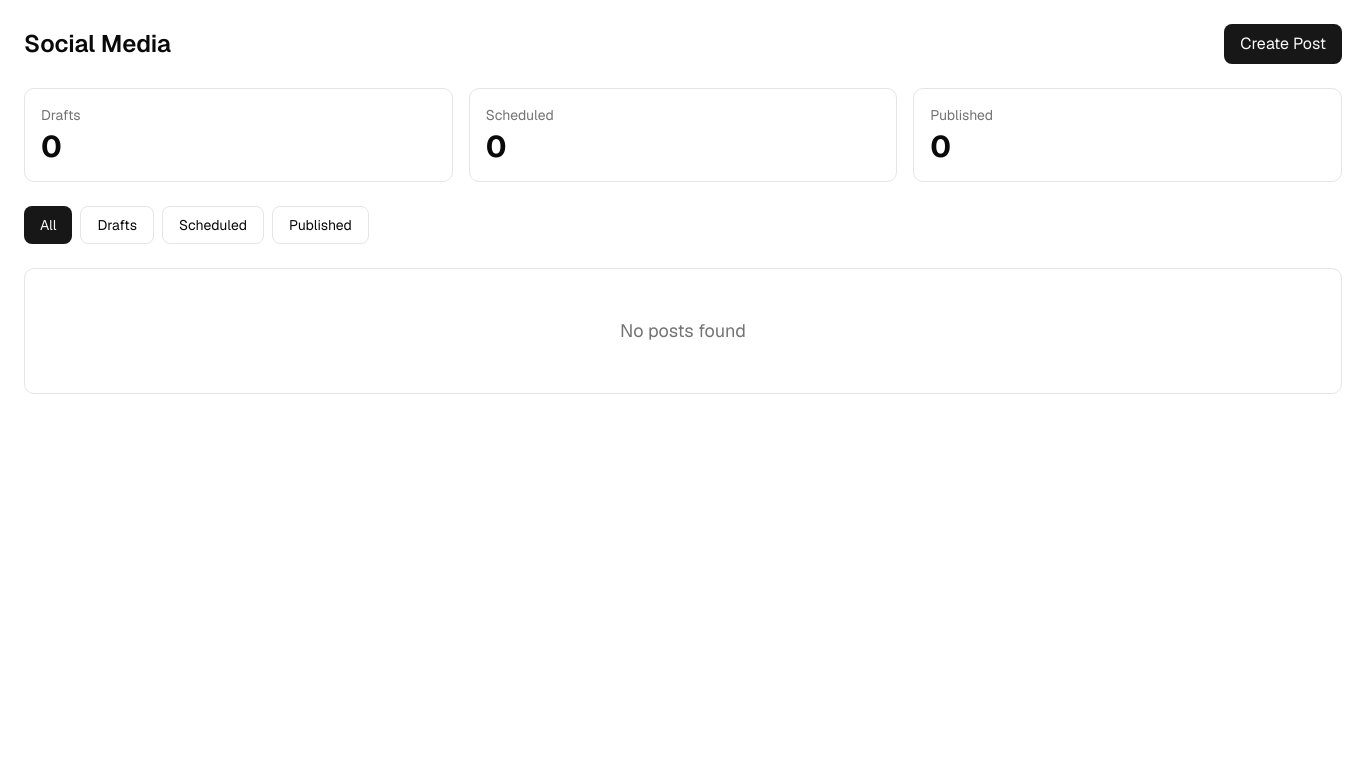
Test case: SocialMedia › displays character count
The image size is (1366, 768).
Step 1. Click the button "Create Post" → (1283, 44), box [1224,24,1342,64]
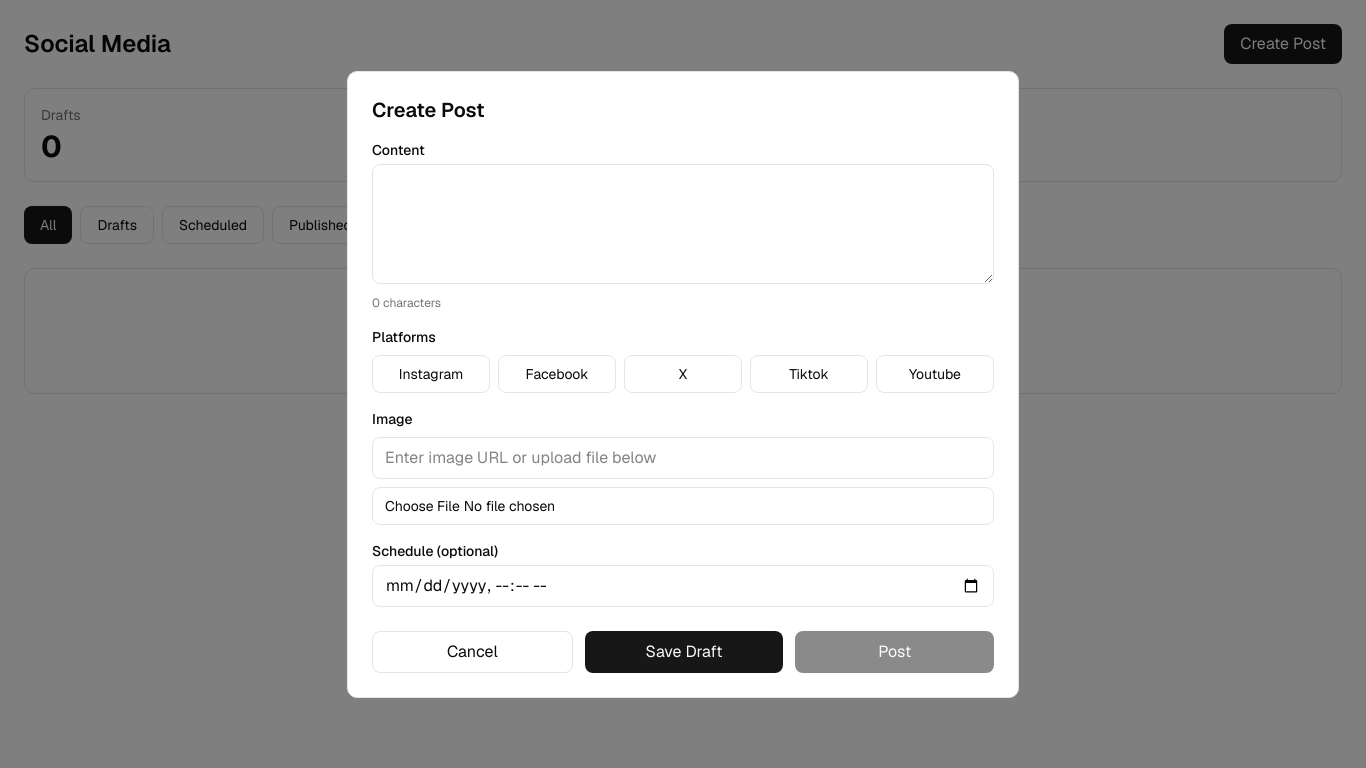
Step 2. Type "Hello" into the text box → (683, 224), box [372,164,994,284]
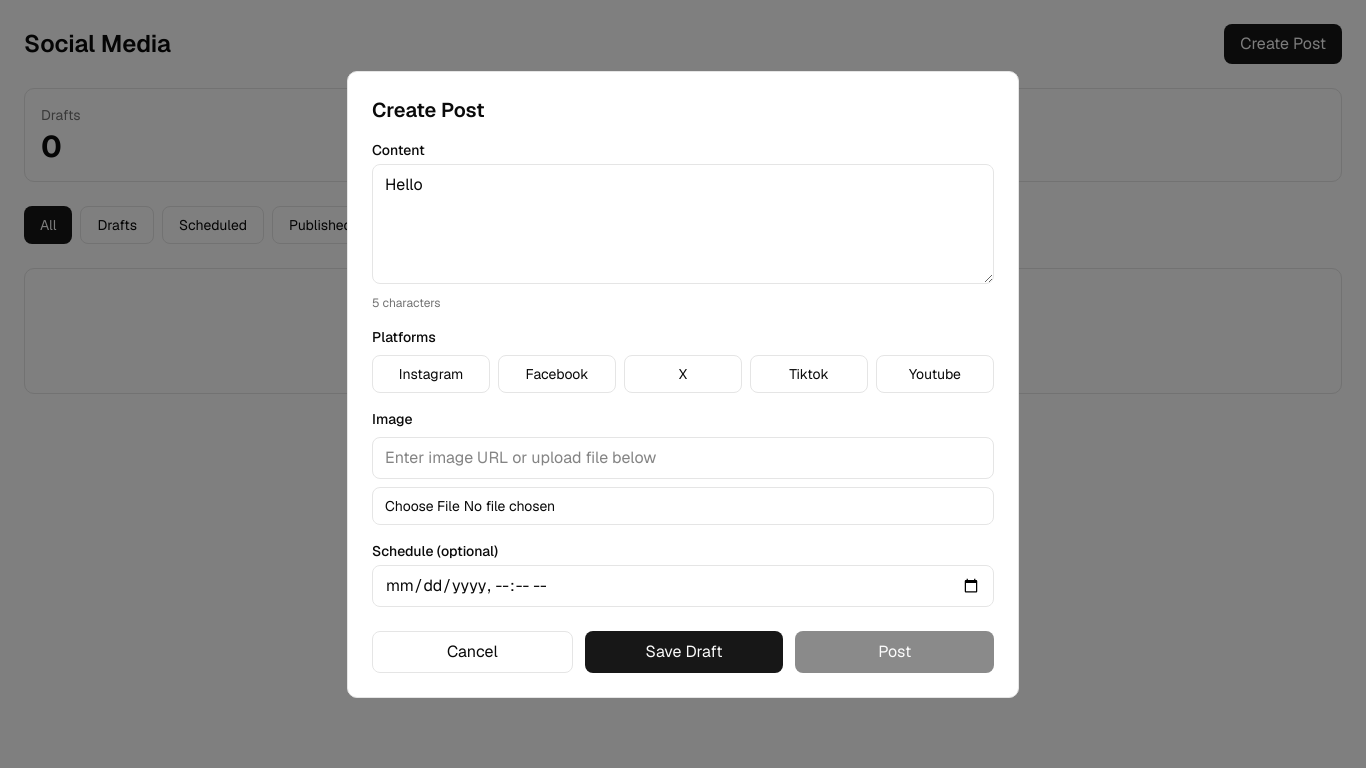
Expected: the text "5 characters" is shown, [372,294,441,310]
